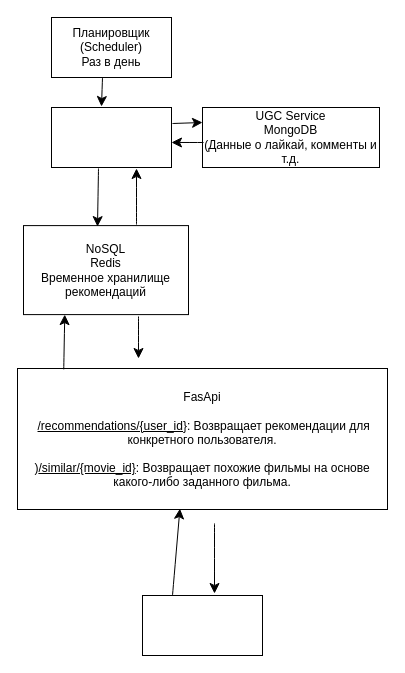
The diagram is 405 pixels wide and 673 high, and some of its shapes have lost their labels. The centre of each missing label's shape, as x and y in pixels:
Пользователь: (x=202, y=625)
Рекомендательный движок (CF Model-based): (x=111, y=137)
